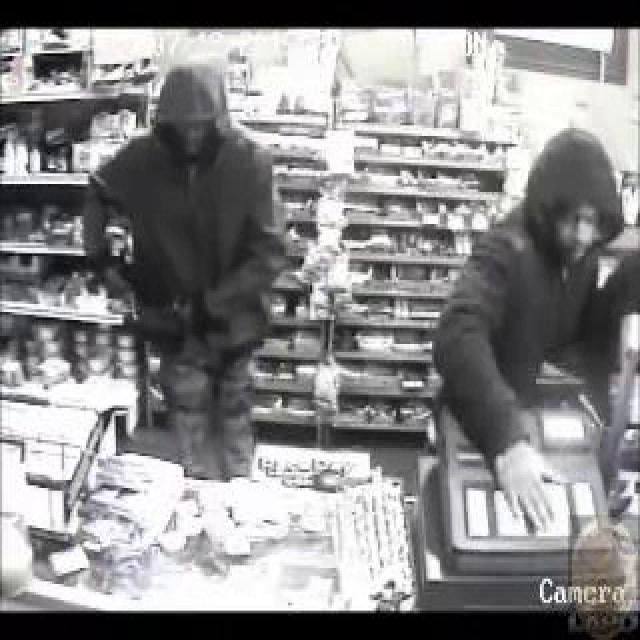robbery: (113, 27, 329, 488), (451, 50, 611, 592)
